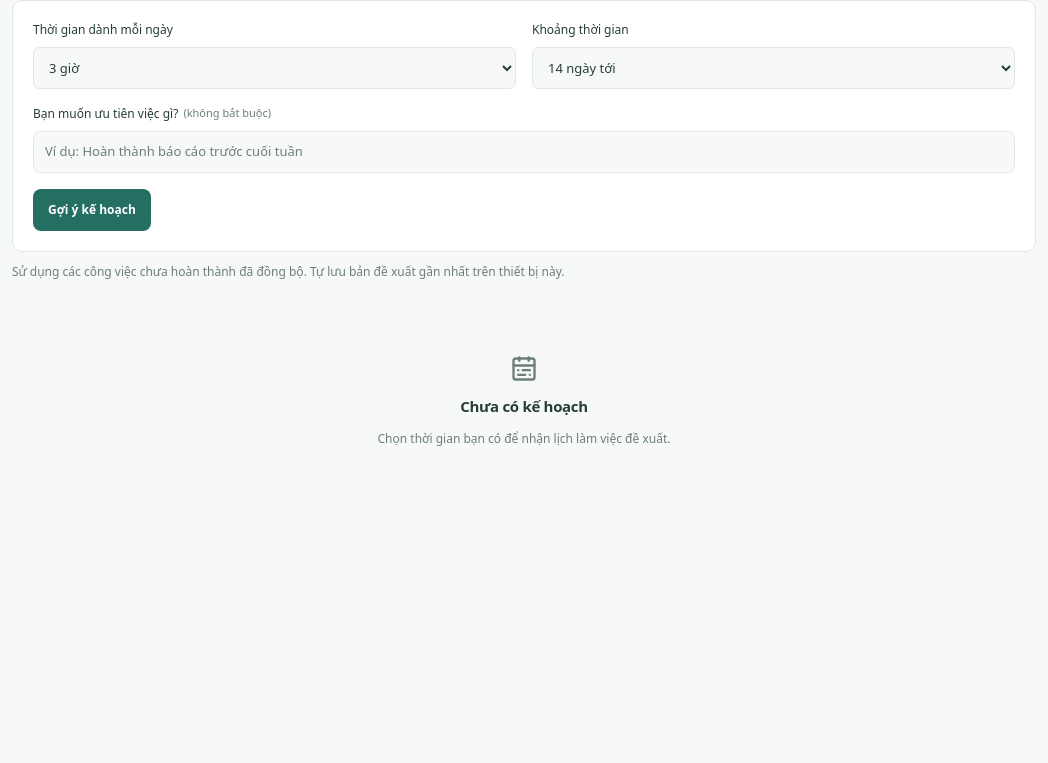
it: PlanningAssistant › keeps the previous plan on screen and on disk when regeneration fails or is cancelled
The image size is (1048, 763).
Expected: the heading "Chưa có kế hoạch" is shown, [460,395,588,417]
Click the button "Gợi ý kế hoạch".
click(92, 210)  # box [33,189,151,231]
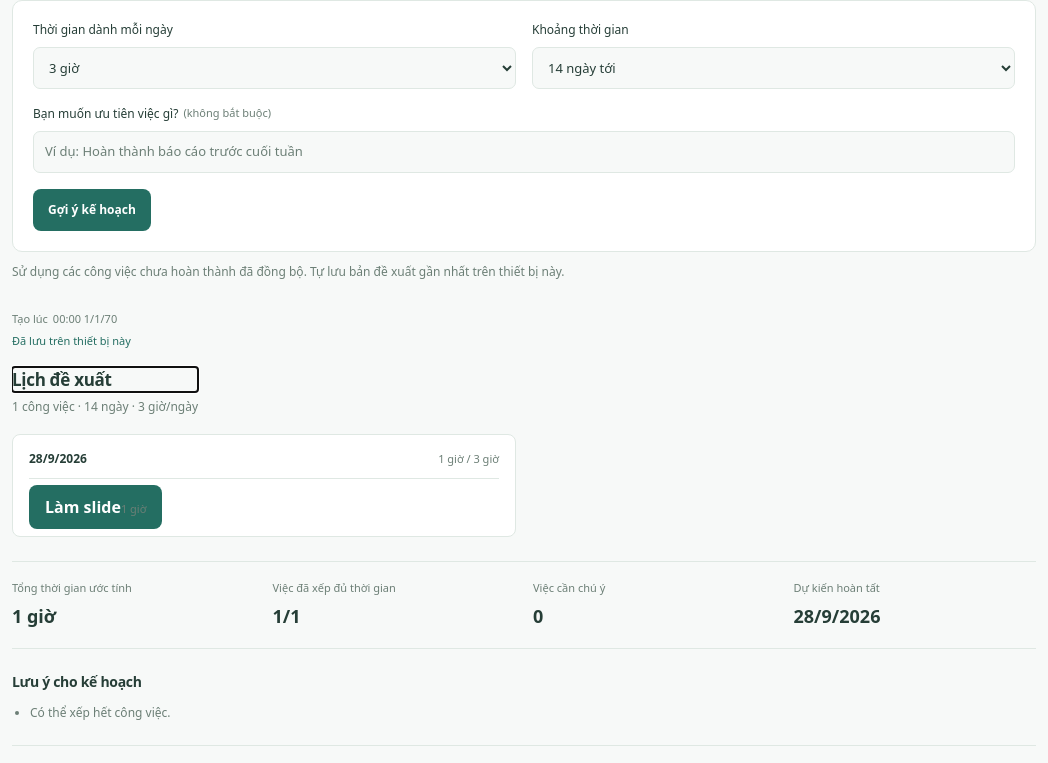
Result: the text "Đã lưu trên thiết bị này" is shown at [12,333,131,348]
Type "Ưu tiên mới" into the field named "Ưu tiên cho kế hoạch".
click(524, 152); type("Ưu tiên mới")  # box [33,131,1015,173]
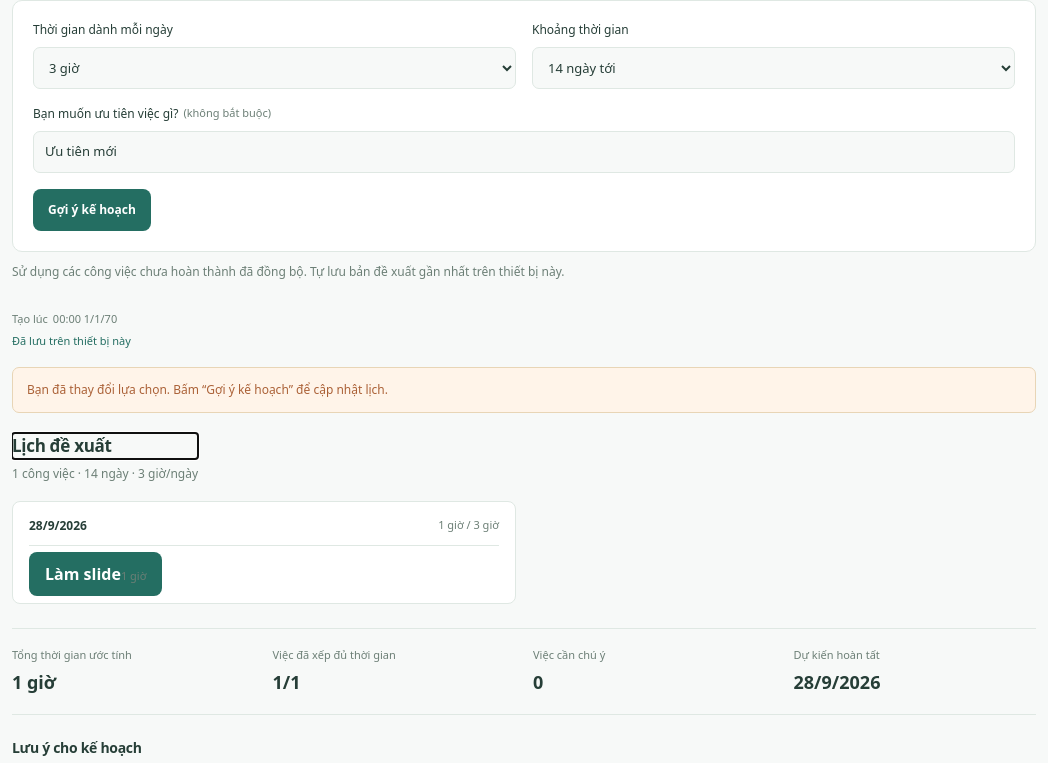
Click the button "Gợi ý kế hoạch".
click(92, 210)  # box [33,189,151,231]
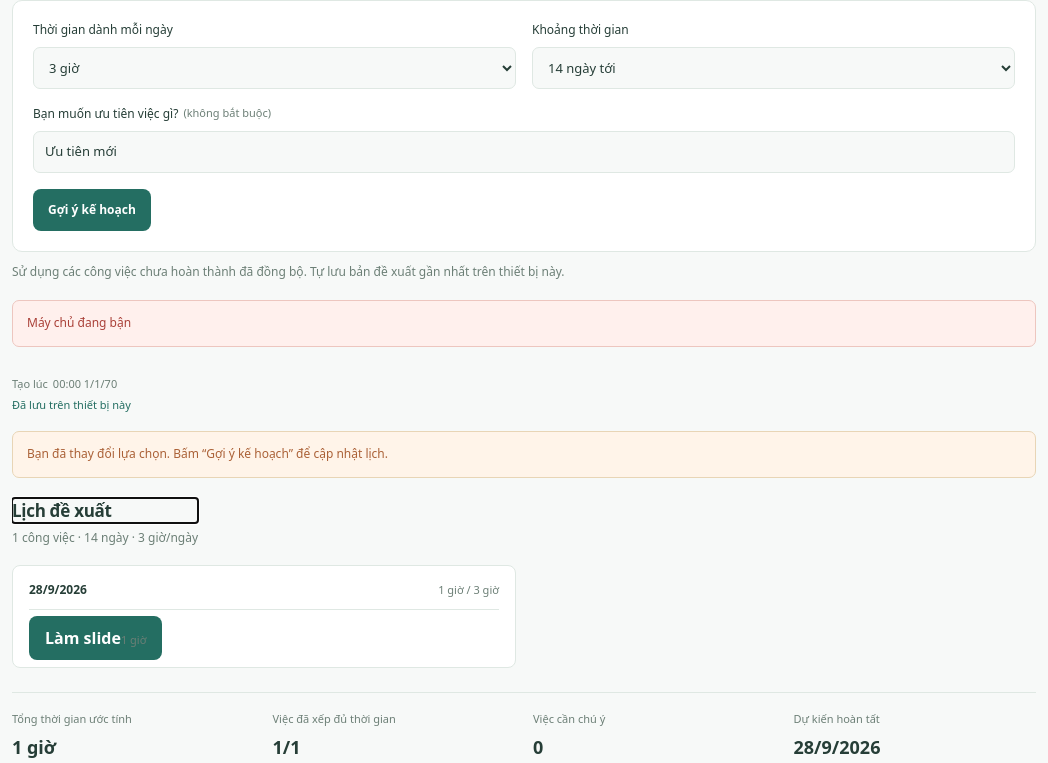
Result: the element "Lịch đề xuất" is shown at [12,498,516,668]
Result: the text "Máy chủ đang bận" is shown at [12,300,1036,347]
Click the button "Gợi ý kế hoạch".
click(92, 210)  # box [33,189,151,231]
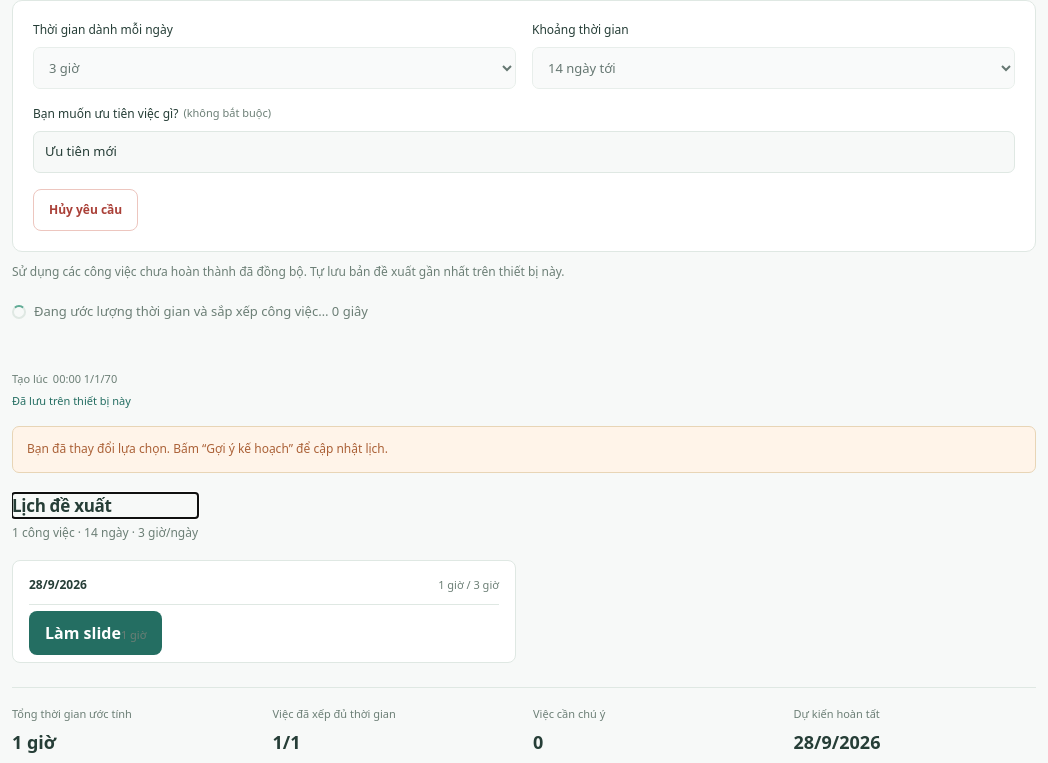
Click the button "Hủy yêu cầu".
click(86, 210)  # box [33,189,138,231]
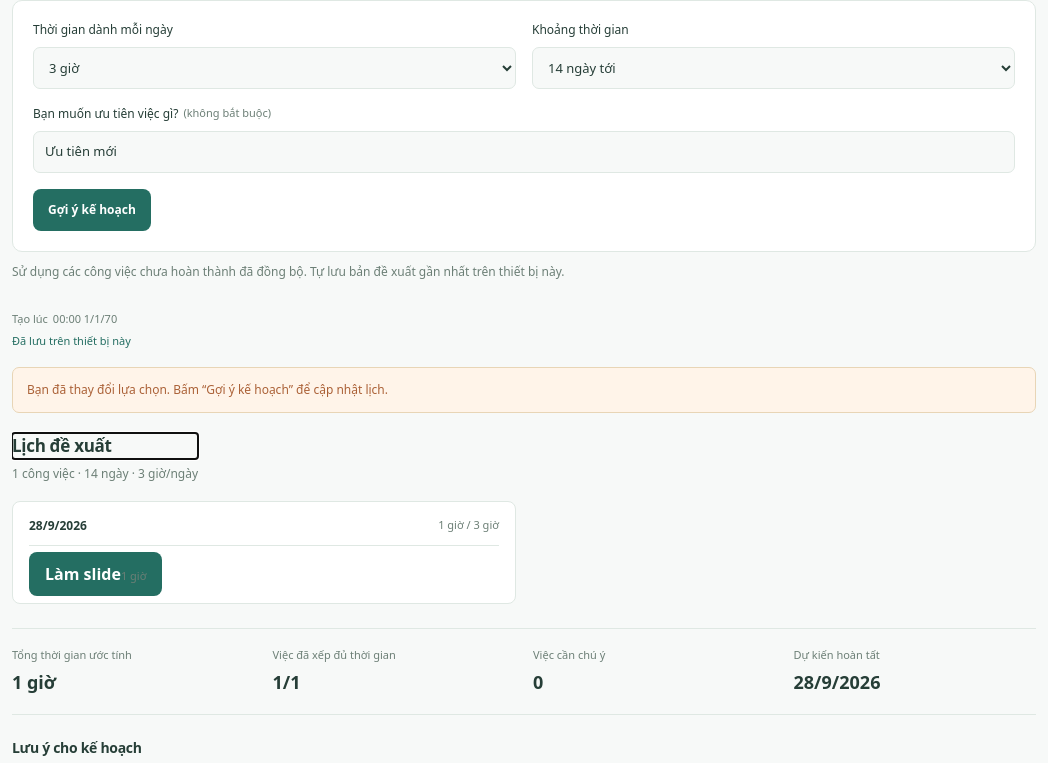
Result: the element "Lịch đề xuất" is shown at [12,434,516,604]
Result: the button "Gợi ý kế hoạch" is shown at [33,189,151,231]
